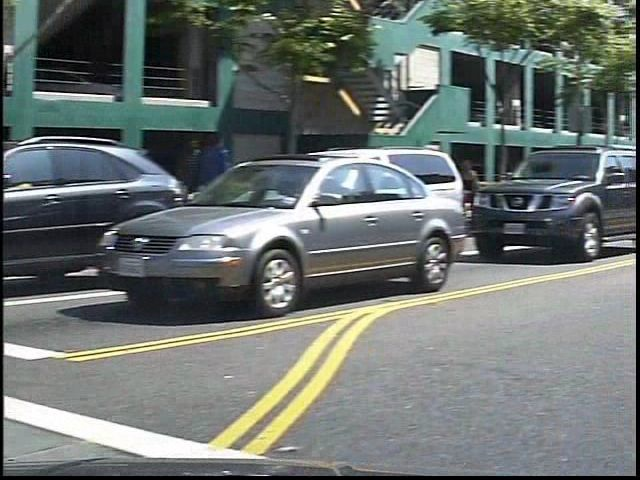person: (205, 127, 255, 245), (469, 156, 499, 230)
